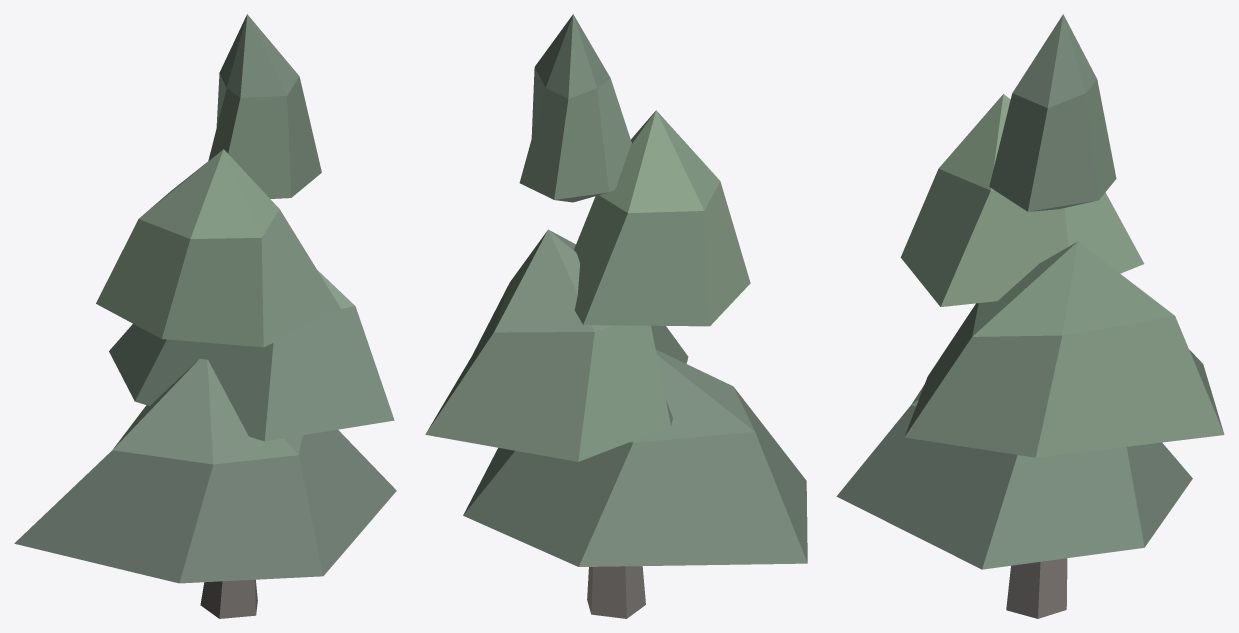
File: tree-distant-a.glb
3 renders of one model, left to right at view 1: azimuth 30°, elevation 25°; view 2: azimuth 150°, elevation 25°; view 3: azimuth 270°, elevation 25°, orthographic. The views are drawn at different scales.
Parts seen in each view (by area): view 1: Tree_Distant_A; view 2: Tree_Distant_A; view 3: Tree_Distant_A.
Part boxes in pixels (x1,y1,x2,y2): Tree_Distant_A: (14,14,396,618); Tree_Distant_A: (425,14,807,618); Tree_Distant_A: (836,14,1224,618).
Size of the model in its own units: 4.96 by 8 by 4.65.
Materials: 1 (1 with a texture image).
